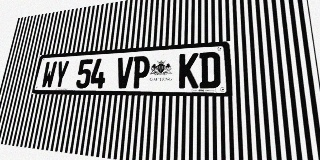4: (89, 58, 108, 88)
5: (75, 59, 93, 88)
D: (199, 52, 221, 88)
K: (178, 53, 199, 88)
P: (131, 56, 150, 88)
V: (115, 57, 134, 88)
W: (40, 61, 57, 88)
Y: (53, 60, 70, 88)
